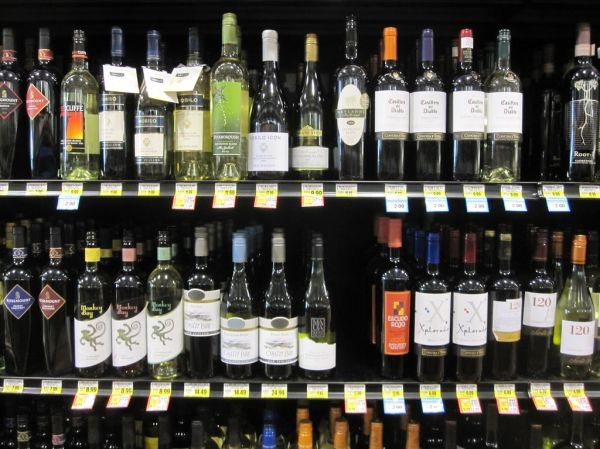unknown_bottle: (210, 13, 250, 182), (248, 28, 291, 180), (59, 29, 101, 181), (332, 15, 370, 181), (258, 228, 299, 381), (561, 24, 600, 182), (182, 227, 222, 380), (412, 232, 452, 383), (451, 229, 490, 383), (291, 33, 331, 180), (373, 27, 411, 181), (220, 233, 259, 380), (298, 236, 337, 381), (378, 219, 413, 380), (146, 233, 184, 381), (450, 28, 486, 181), (73, 245, 113, 378), (111, 238, 148, 380)
